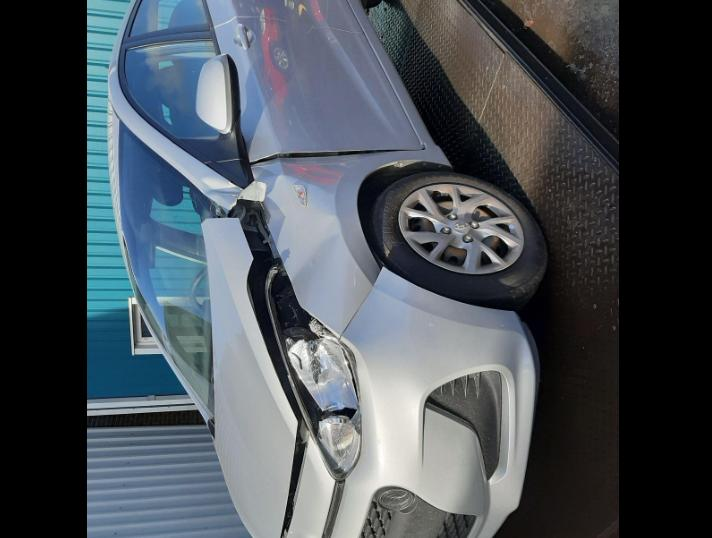Broken part: (202, 214, 313, 538), (108, 61, 266, 218), (348, 0, 453, 167), (248, 147, 419, 165)
Dent: (266, 199, 343, 307), (343, 275, 414, 350), (345, 228, 380, 329), (278, 150, 398, 165), (251, 159, 280, 180), (241, 127, 257, 156)
Missing part: (265, 265, 359, 477), (378, 488, 415, 510)
Scratch: (354, 262, 359, 288), (429, 319, 435, 327), (501, 323, 505, 326)
